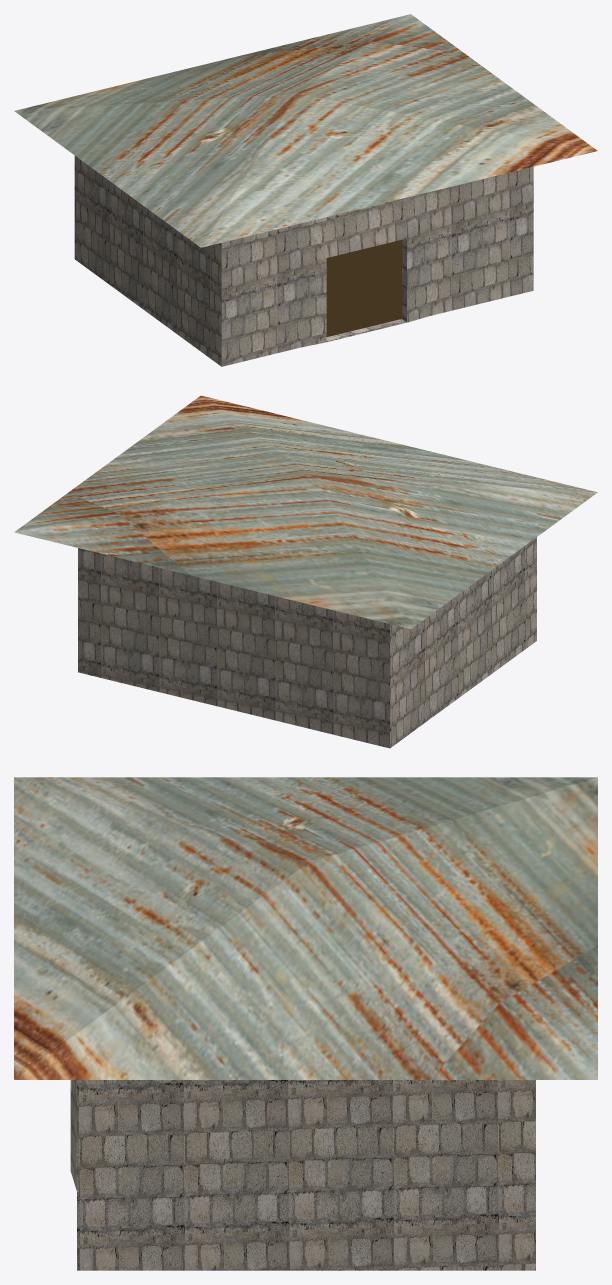
Rendered from bahay.fbx.
3 renders of one model, top to bottom at view 1: azimuth 30°, elevation 25°; view 2: azimuth 150°, elevation 25°; view 3: azimuth 270°, elevation 25°, orthographic. The views are drawn at different scales.
Parts seen in each view (by area): view 1: Cube; view 2: Cube; view 3: Cube.
Boxes of the visible parts, <box> form: Cube: <box>14,14,597,366</box>; Cube: <box>14,395,597,748</box>; Cube: <box>14,777,597,1270</box>.
Bounding box in the file's own units: 1014 × 442 × 827.
Materials: 3 (2 with a texture image).
